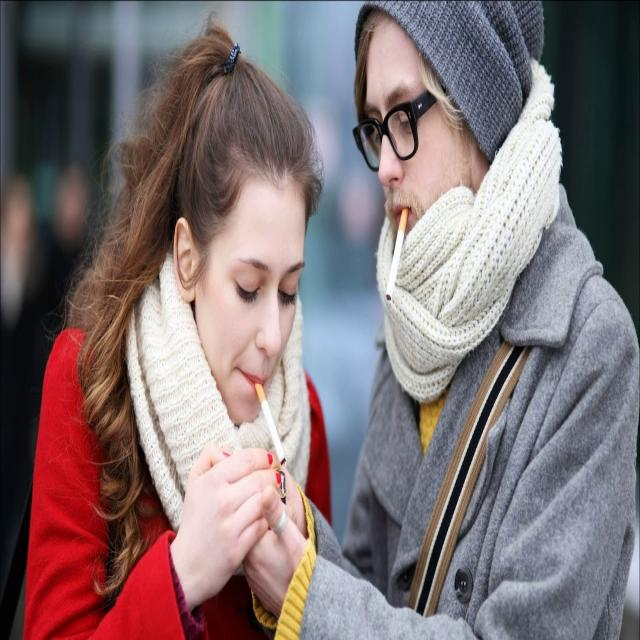cigarette: (252, 377, 290, 475), (385, 202, 414, 308)
